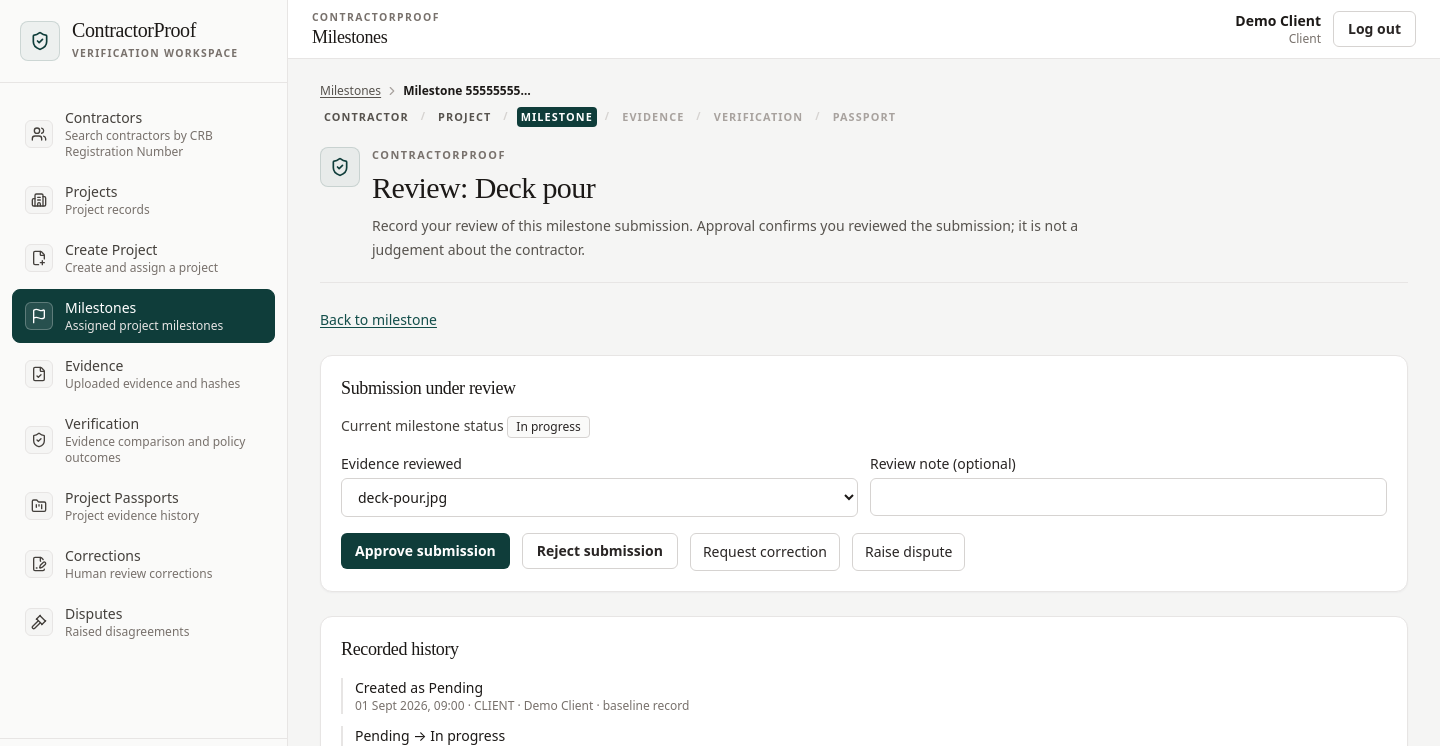
Phase 4.4 project execution › records a client approval as an attestation followed by a verified transition
The width and height of the screenshot is (1440, 746).
Step 1. Click the button "Approve submission" → (425, 552), box [341,534,510,570]
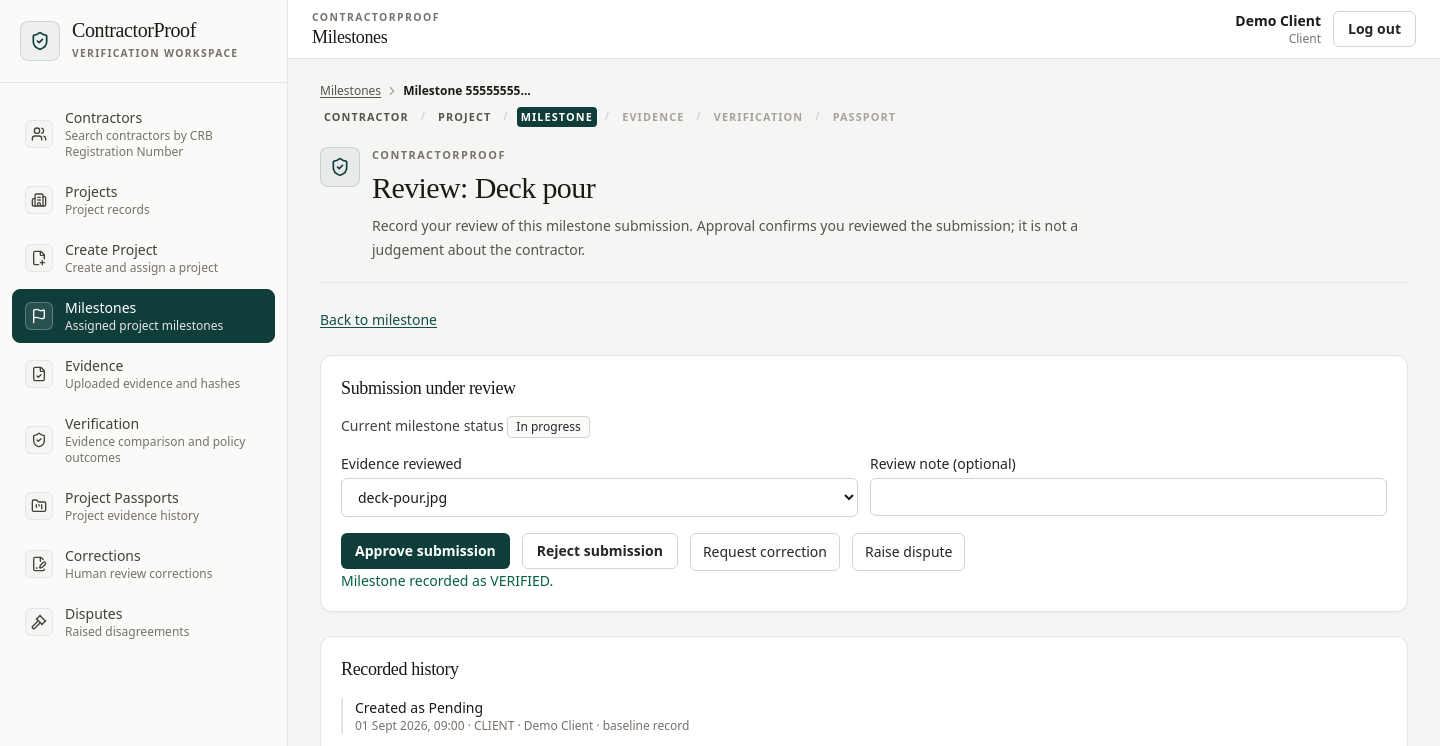
Expected: the text "Milestone recorded as VERIFIED." is shown, [341,572,553,590]
